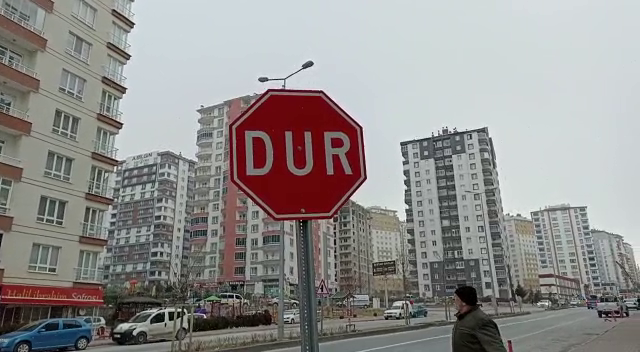stop: (227, 88, 369, 223)
